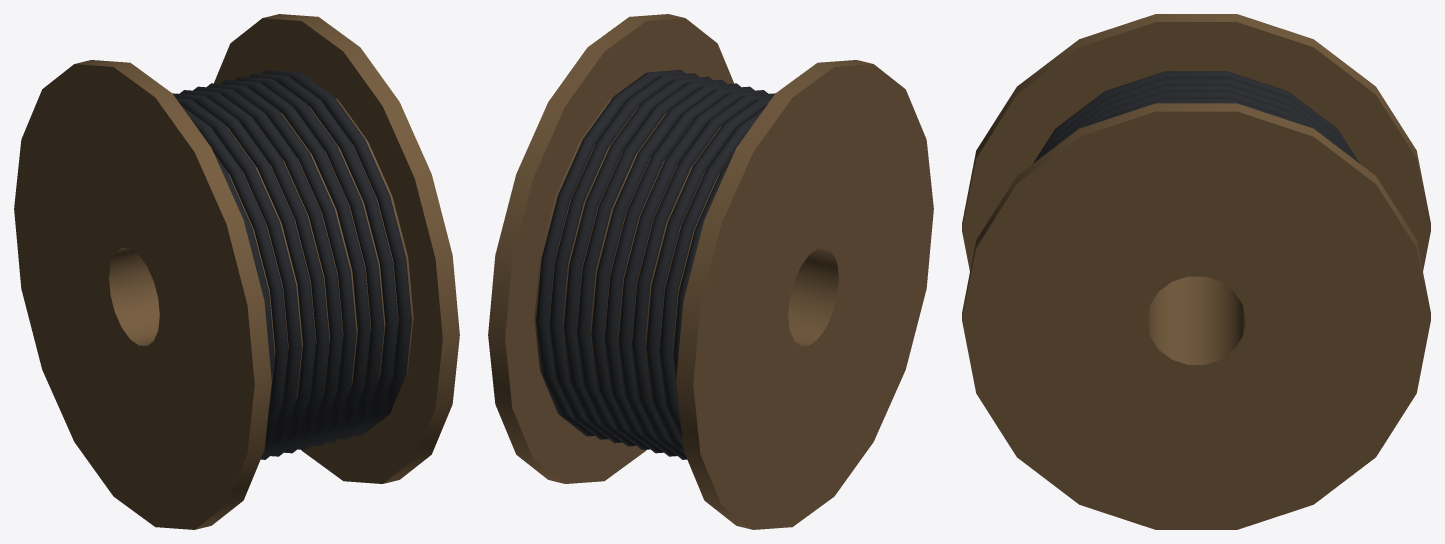
File: CableReels_1.fbx
The picture shows the model from 3 angles, left to right: view 1: azimuth 30°, elevation 25°; view 2: azimuth 150°, elevation 25°; view 3: azimuth 270°, elevation 25°; orthographic projection. The views are drawn at different scales.
Visible parts, largest first — view 1: CableReels_1; view 2: CableReels_1; view 3: CableReels_1.
Part boxes in pixels (bbox=[...]): CableReels_1: bbox=[14, 14, 459, 529]; CableReels_1: bbox=[488, 14, 933, 529]; CableReels_1: bbox=[962, 14, 1430, 529].
Bounding box in the file's own units: 90.93 × 182 × 185.
